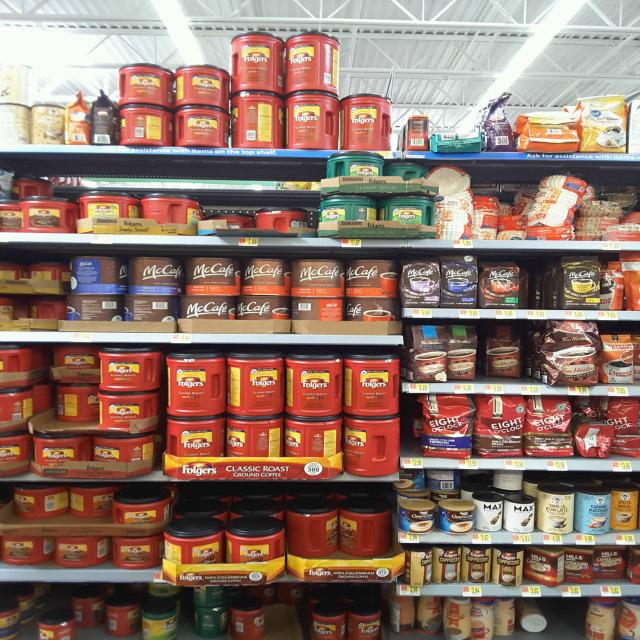empty: (521, 260, 556, 308), (549, 597, 586, 640)
